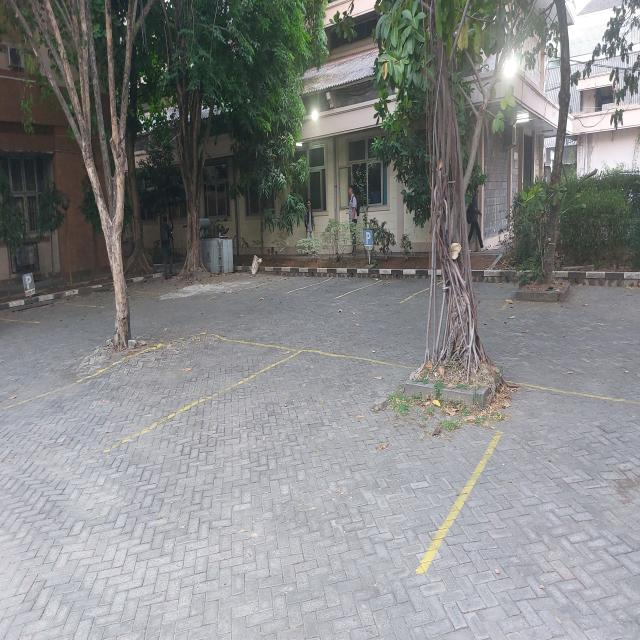empty: (113, 349, 417, 521), (417, 384, 640, 614), (6, 332, 307, 450), (333, 278, 444, 305), (285, 275, 384, 299)
